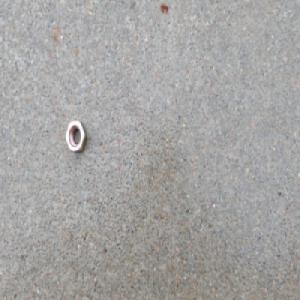Nut: (64, 119, 86, 154)
